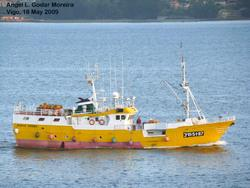otherboat: (10, 40, 237, 153)
